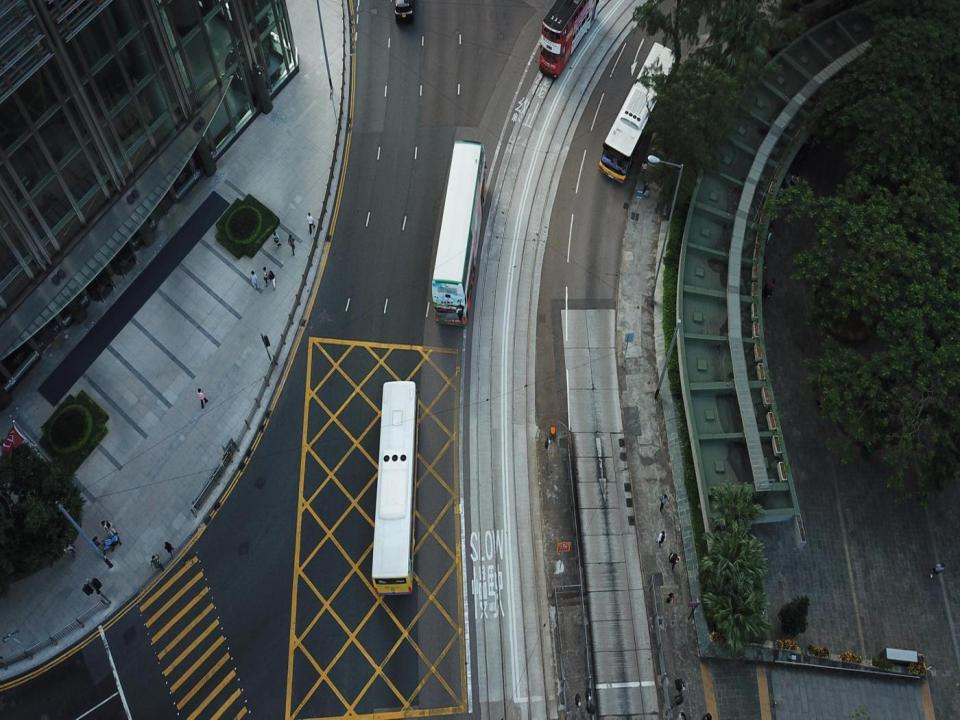bus: (599, 39, 678, 184), (372, 382, 419, 595), (432, 138, 485, 326), (540, 0, 603, 80)
car: (394, 0, 418, 24)
